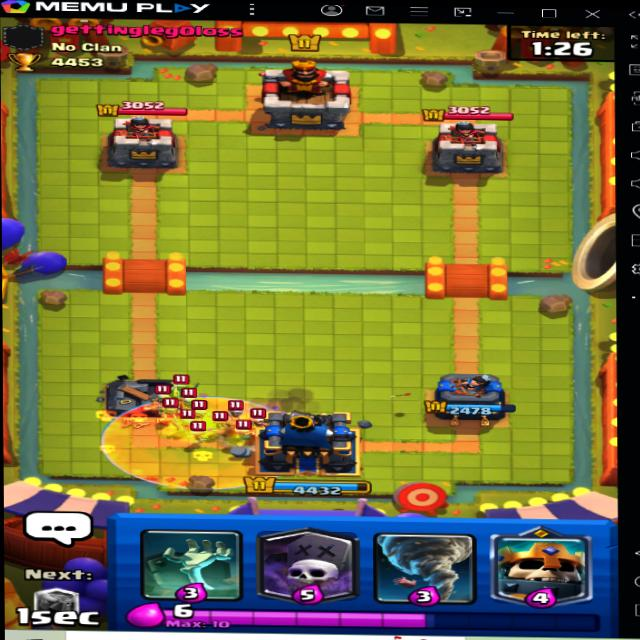Skeleton: (148, 378, 174, 401), (229, 422, 258, 440), (187, 423, 214, 442), (226, 401, 253, 420), (165, 375, 194, 391), (250, 406, 269, 427)
